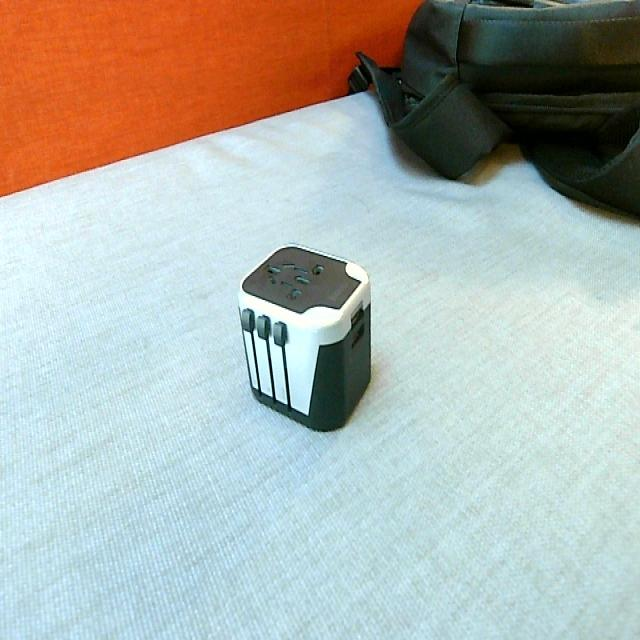adapter: (237, 241, 372, 432)
